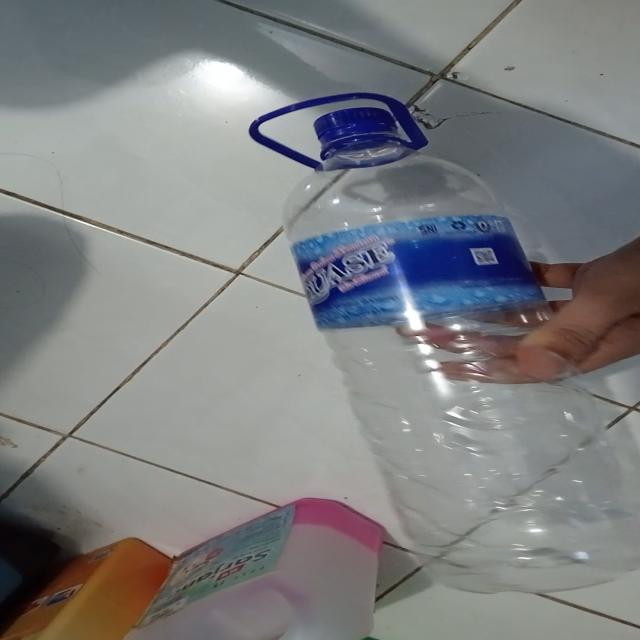Botol bekas: (278, 150, 636, 596)
